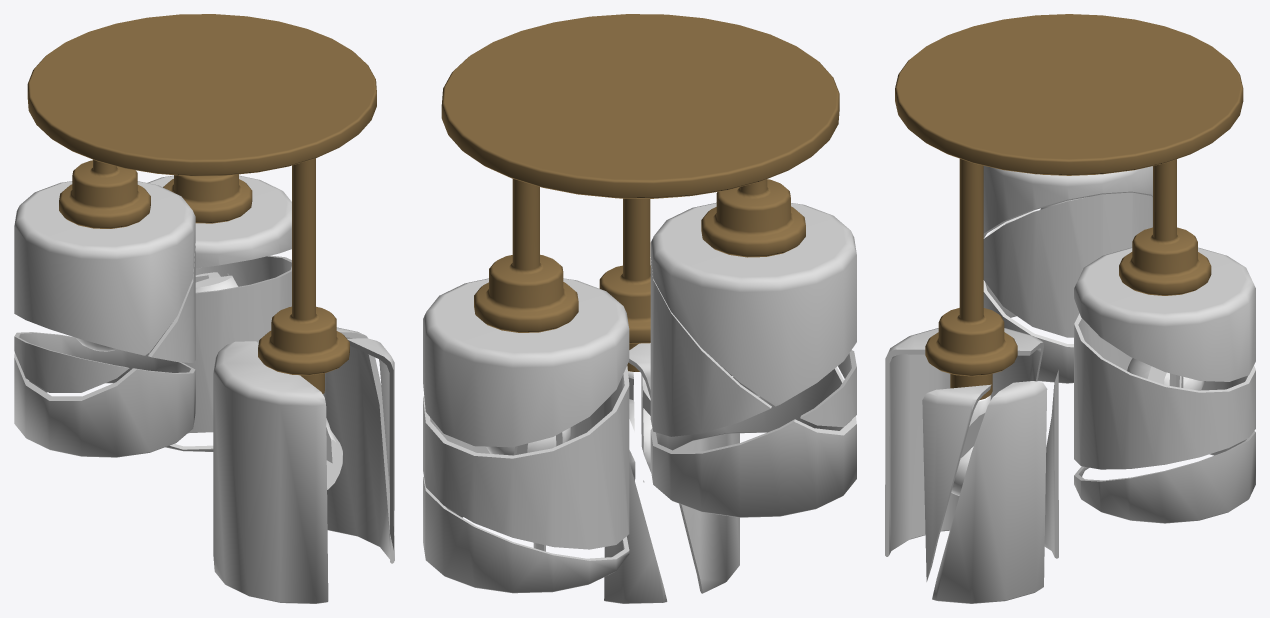
File: shatteredLamp.fbx
3 renders of one model, left to right at view 1: azimuth 30°, elevation 25°; view 2: azimuth 150°, elevation 25°; view 3: azimuth 270°, elevation 25°, orthographic. The views are drawn at different scales.
Parts seen in each view (by area): view 1: Lamp_Ceiling_Apt_01, Glass_005.002, Glass_003.001, Glass_003, Glass_005, Glass_004.002, Lamp_Ceiling_Apt_01.003, Glass_004.001, Lamp_Ceiling_Apt_01.001, Glass_003.003, Lamp_Ceiling_Apt_01.002, Glass_005.003 (+2 smaller); view 2: Lamp_Ceiling_Apt_01, Glass_003.001, Glass_004.001, Glass_004.002, Glass_003, Glass_004, Glass_003.002, Lamp_Ceiling_Apt_01.002, Lamp_Ceiling_Apt_01.001, Glass_005.002, Lamp_Ceiling_Apt_01.003, Glass_005.001 (+1 smaller); view 3: Lamp_Ceiling_Apt_01, Glass_005, Glass_004.002, Glass_004.001, Glass_003.002, Glass_005.002, Glass_004, Lamp_Ceiling_Apt_01.003, Lamp_Ceiling_Apt_01.002, Glass_005.003, Glass_003.001, Glass_003 (+4 smaller).
Part boxes in pixels (x1=…): Lamp_Ceiling_Apt_01: x1=27, y1=14, x2=376, y2=176; Glass_005.002: x1=213, y1=341, x2=328, y2=603; Glass_003.001: x1=14, y1=181, x2=195, y2=355; Glass_003: x1=14, y1=332, x2=195, y2=457; Glass_005: x1=323, y1=327, x2=394, y2=563; Glass_004.002: x1=149, y1=255, x2=291, y2=433; Lamp_Ceiling_Apt_01.003: x1=258, y1=158, x2=349, y2=375; Glass_004.001: x1=147, y1=175, x2=291, y2=268; Lamp_Ceiling_Apt_01.001: x1=59, y1=159, x2=150, y2=228; Glass_003.003: x1=14, y1=334, x2=129, y2=392; Lamp_Ceiling_Apt_01.002: x1=163, y1=174, x2=252, y2=223; Glass_005.003: x1=347, y1=338, x2=394, y2=549; Lamp_Ceiling_Apt_01: x1=441, y1=14, x2=839, y2=198; Glass_003.001: x1=650, y1=202, x2=856, y2=406; Glass_004.001: x1=423, y1=278, x2=629, y2=447; Glass_004.002: x1=423, y1=365, x2=629, y2=549; Glass_003: x1=650, y1=367, x2=856, y2=517; Glass_004: x1=423, y1=476, x2=629, y2=593; Glass_003.002: x1=650, y1=257, x2=771, y2=436; Lamp_Ceiling_Apt_01.002: x1=474, y1=179, x2=578, y2=332; Lamp_Ceiling_Apt_01.001: x1=701, y1=179, x2=805, y2=257; Glass_005.002: x1=628, y1=343, x2=739, y2=593; Lamp_Ceiling_Apt_01.003: x1=599, y1=198, x2=650, y2=343; Glass_005.001: x1=604, y1=462, x2=667, y2=603; Lamp_Ceiling_Apt_01: x1=895, y1=14, x2=1243, y2=175; Glass_005: x1=932, y1=381, x2=1047, y2=603; Glass_004.002: x1=1074, y1=313, x2=1255, y2=469; Glass_004.001: x1=1074, y1=247, x2=1255, y2=381; Glass_003.002: x1=983, y1=192, x2=1152, y2=337; Glass_005.002: x1=885, y1=328, x2=1043, y2=556; Glass_004: x1=1074, y1=431, x2=1255, y2=523; Lamp_Ceiling_Apt_01.003: x1=925, y1=159, x2=1017, y2=376; Lamp_Ceiling_Apt_01.002: x1=1119, y1=159, x2=1211, y2=295; Glass_005.003: x1=922, y1=384, x2=991, y2=581; Glass_003.001: x1=983, y1=166, x2=1152, y2=238; Glass_003: x1=983, y1=280, x2=1073, y2=383.
Size of the model in its own units: 155 by 205 by 152.
